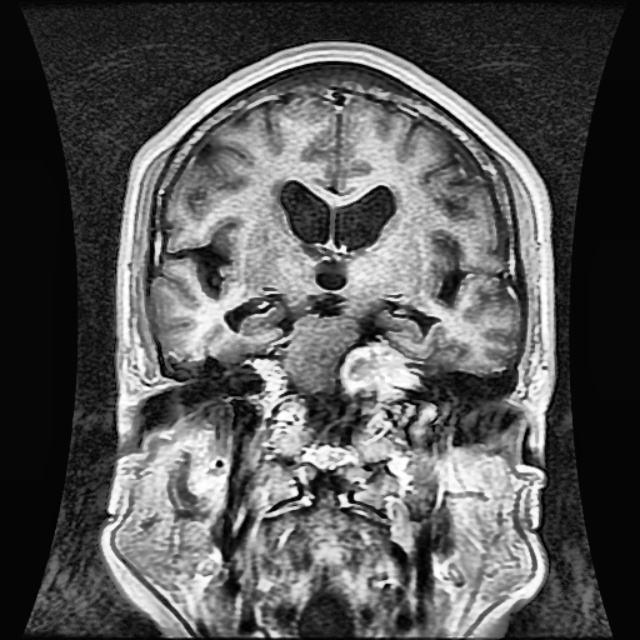Glioma: (338, 338, 417, 398)
